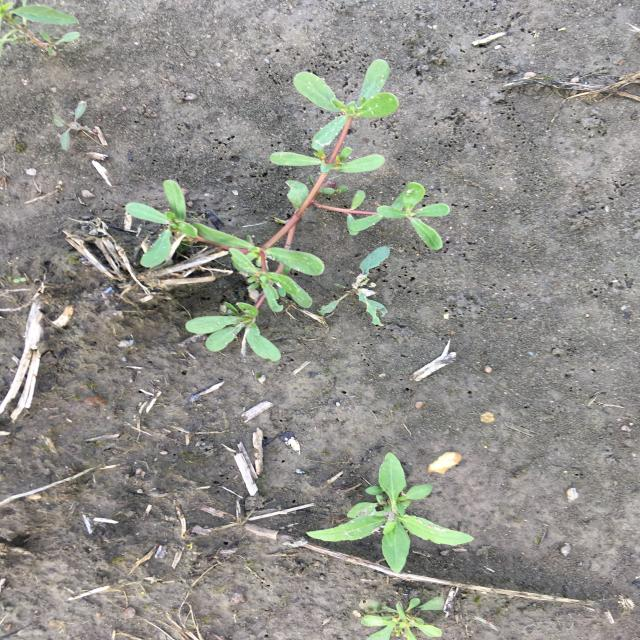Carpetweed: (351, 594, 450, 639)
Eclipta: (304, 451, 478, 575)
Purslane: (122, 58, 453, 362)
